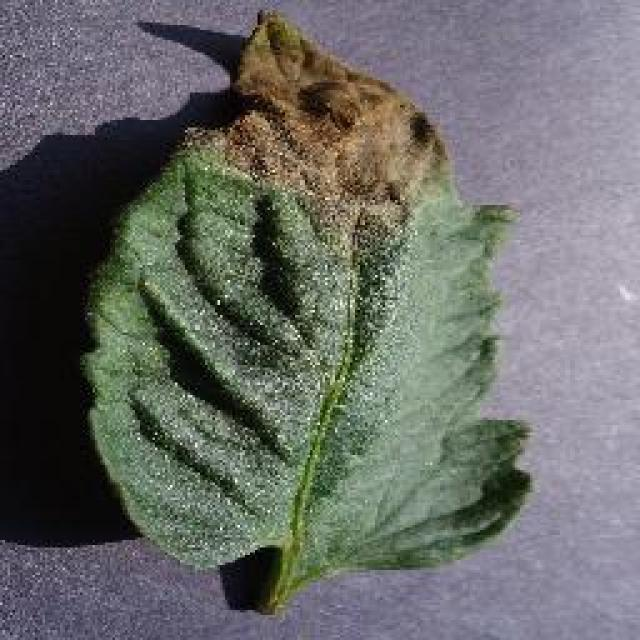Tomato late blight leaf: (90, 5, 537, 580)
